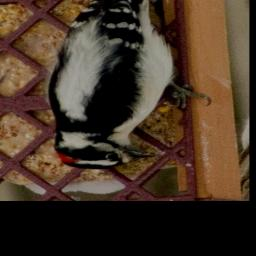Woodpecker: (50, 0, 211, 169)
